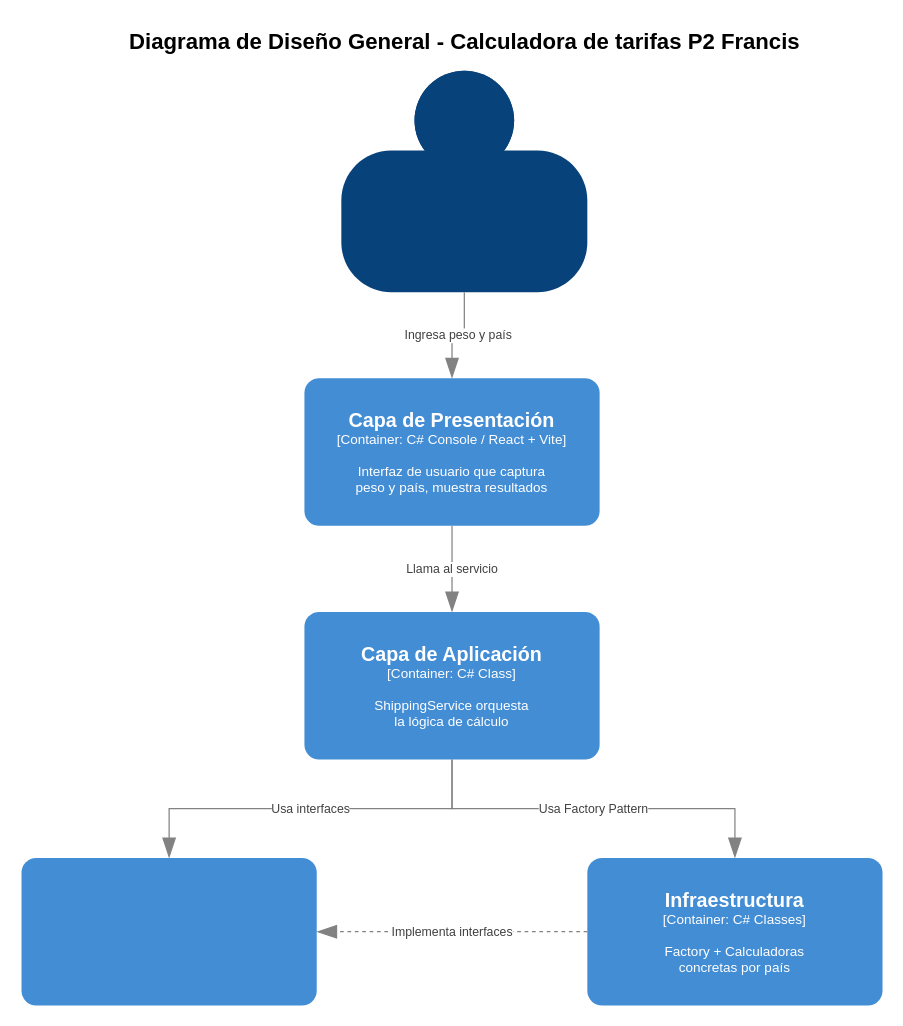
This 903x1026 diagram has some shape labels left out. Here are the shapes that lost their labels. From the top down, the centre of each, then its label:
At [464,181]: "Usuario [Persona] Cliente que necesita calcular tarifas de envío internacional".
At [168,931]: "Dominio [Container: C# Interfaces] IShippingCalculator ShippingResult".
